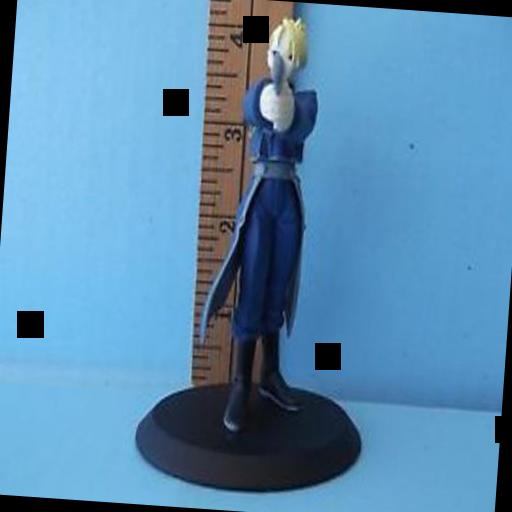Handgun: (266, 52, 288, 94)
